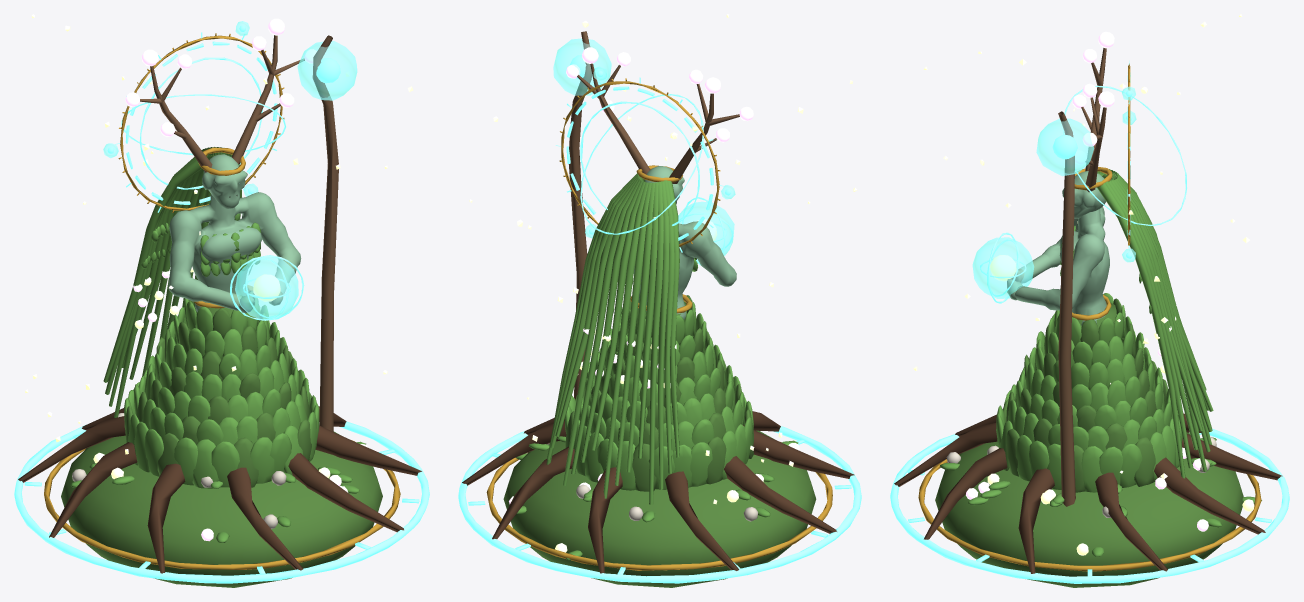
The model's file is gaia.glb.
3 renders of one model, left to right at view 1: azimuth 30°, elevation 25°; view 2: azimuth 150°, elevation 25°; view 3: azimuth 270°, elevation 25°, orthographic. The views are drawn at different scales.
Parts seen in each view (by area): view 1: leaf, moss, bark, jade, ether, bark2, ether_veil, gold, bloom_pink, firefly, white; view 2: leaf, moss, bark, ether, gold, bark2, ether_veil, jade, bloom_pink, firefly; view 3: leaf, moss, bark, ether, jade, bark2, ether_veil, gold, bloom_pink, firefly.
Boxes of the visible parts, bbox=[...] form: leaf: bbox=[70, 147, 365, 542]; moss: bbox=[61, 292, 382, 587]; bark: bbox=[18, 406, 421, 573]; jade: bbox=[168, 154, 301, 312]; ether: bbox=[14, 25, 429, 583]; bark2: bbox=[140, 35, 338, 431]; ether_veil: bbox=[103, 21, 357, 320]; gold: bbox=[44, 33, 400, 569]; bloom_pink: bbox=[125, 18, 348, 541]; firefly: bbox=[25, 14, 413, 479]; white: bbox=[72, 413, 319, 528]; leaf: bbox=[516, 173, 798, 560]; moss: bbox=[503, 295, 816, 587]; bark: bbox=[462, 411, 854, 573]; ether: bbox=[458, 55, 861, 583]; gold: bbox=[486, 78, 832, 570]; bark2: bbox=[568, 31, 739, 399]; ether_veil: bbox=[553, 38, 735, 263]; jade: bbox=[633, 166, 736, 319]; bloom_pink: bbox=[509, 47, 799, 504]; firefly: bbox=[469, 14, 856, 552]; leaf: bbox=[940, 169, 1261, 556]; moss: bbox=[935, 298, 1243, 587]; bark: bbox=[894, 413, 1282, 573]; ether: bbox=[890, 60, 1289, 583]; jade: bbox=[1007, 171, 1109, 325]; bark2: bbox=[1058, 48, 1106, 506]; ether_veil: bbox=[972, 86, 1136, 298]; gold: bbox=[918, 63, 1261, 571]; bloom_pink: bbox=[966, 31, 1208, 531]; firefly: bbox=[913, 14, 1254, 555].
Bounding box in the file's own units: 2.52 × 3.49 × 2.52.
